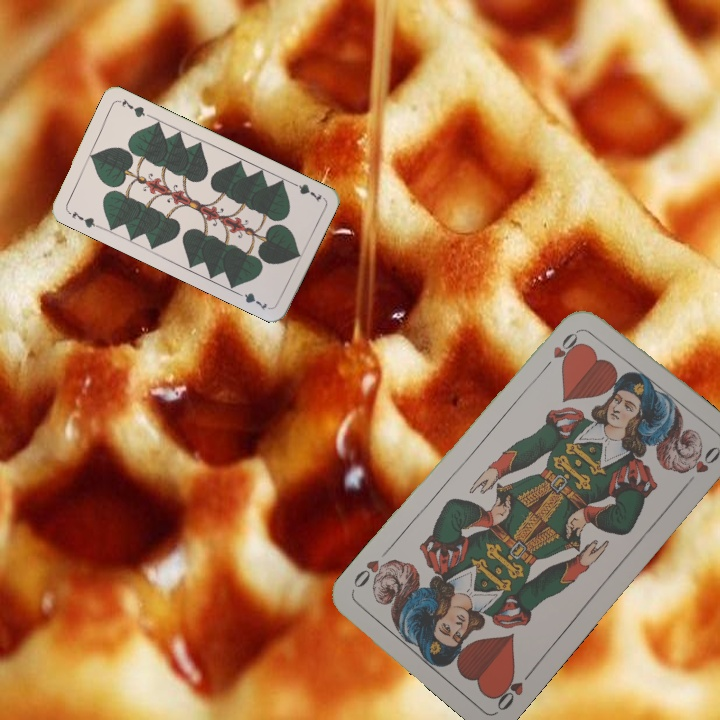G7: (286, 178, 324, 205), (64, 206, 102, 231)
HO: (489, 665, 537, 714), (538, 325, 584, 373)
